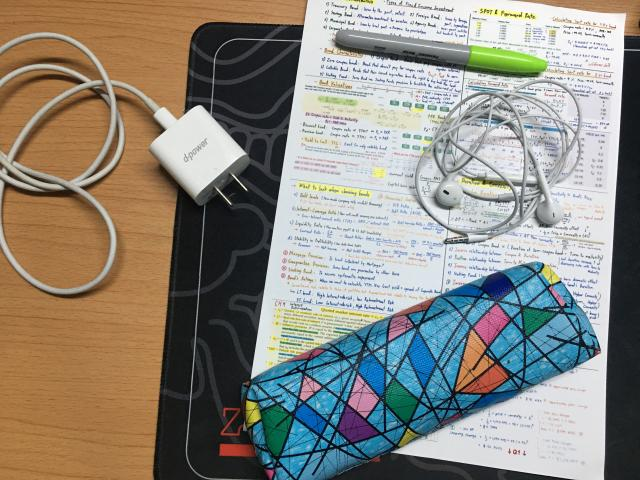Pen: (335, 30, 548, 72)
paper: (252, 0, 625, 478)
wire: (0, 32, 259, 294), (415, 79, 582, 244)
